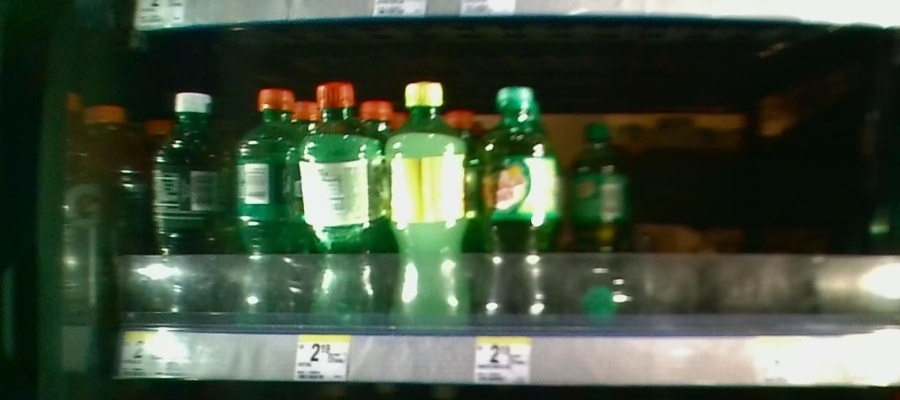bottle: (383, 76, 471, 324), (472, 81, 556, 324), (149, 83, 228, 319), (300, 72, 376, 317), (232, 81, 296, 330), (572, 115, 627, 289)
